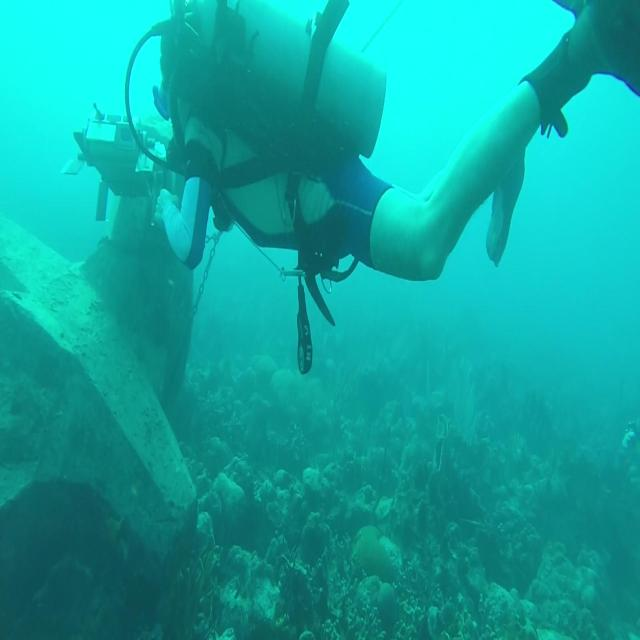human: (148, 1, 638, 374)
